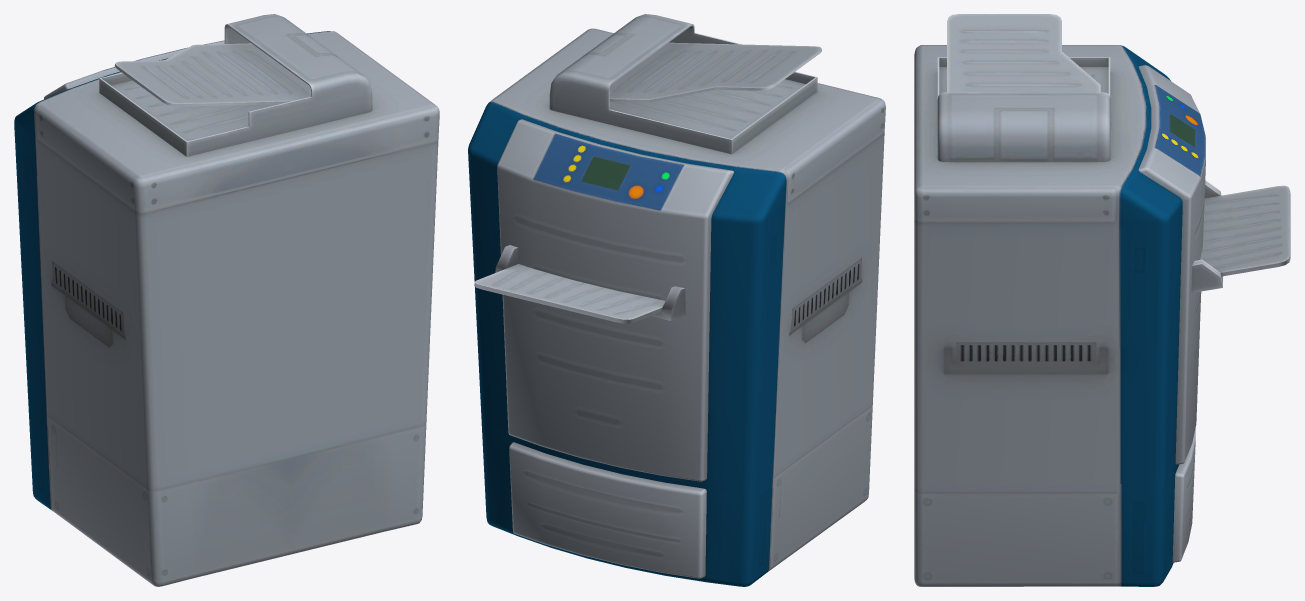
The model's file is OfficePrinter03.fbx.
3 views of the same model, side by side, from view 1: azimuth 30°, elevation 25°; view 2: azimuth 150°, elevation 25°; view 3: azimuth 270°, elevation 25° (orthographic).
Visible parts, largest first — view 1: OfficePrinter02; view 2: OfficePrinter02; view 3: OfficePrinter02.
Part boxes in pixels (x1=…): OfficePrinter02: x1=14, y1=14, x2=439, y2=586; OfficePrinter02: x1=468, y1=14, x2=885, y2=586; OfficePrinter02: x1=914, y1=14, x2=1290, y2=586.
Bounding box in the file's own units: 0.997 × 1.46 × 1.08.
1 material, 1 textured.
